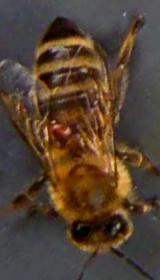varroa_mite: (50, 118, 71, 142)
